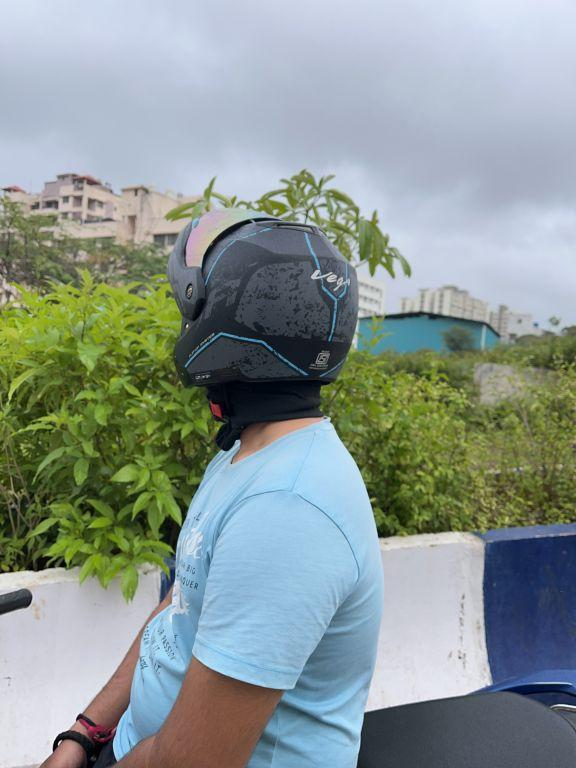helmet: (159, 187, 370, 426)
